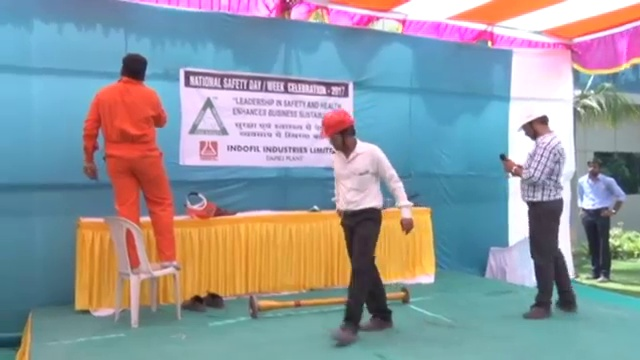helmet: (318, 108, 355, 138), (514, 101, 548, 130)
helmet_off: (118, 51, 149, 82), (586, 154, 605, 179)
helmet_on: (319, 107, 359, 157), (513, 101, 553, 139)
person: (314, 108, 416, 347), (83, 52, 184, 273), (501, 100, 582, 321), (575, 153, 624, 284)
